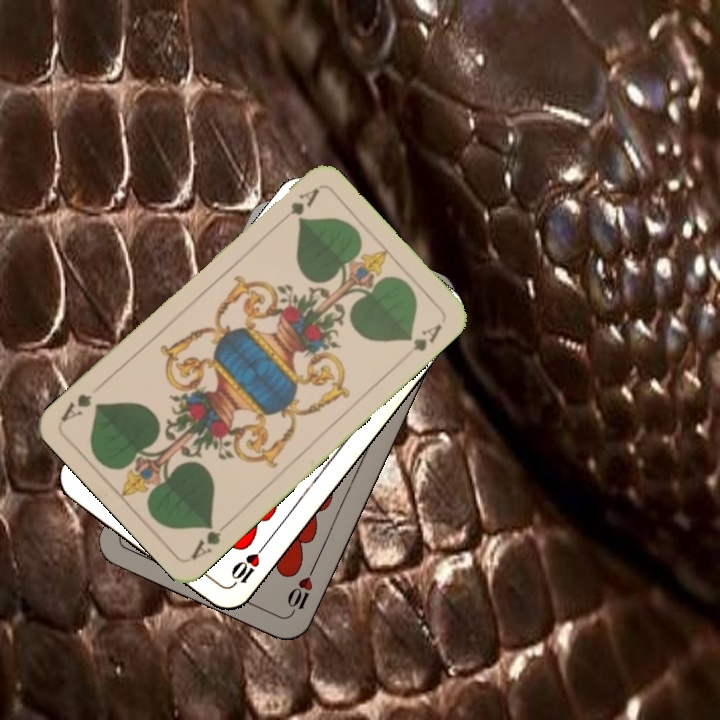GA: (187, 516, 233, 563), (273, 184, 322, 227)
H10: (226, 541, 268, 591), (283, 562, 318, 618)
